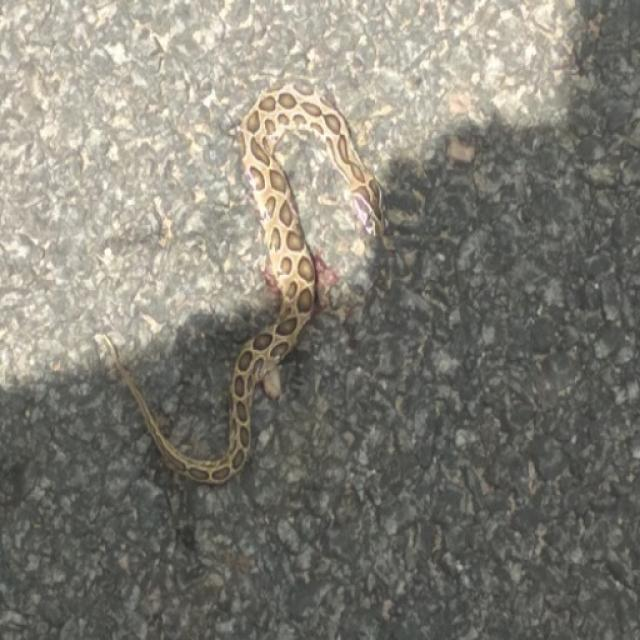snake: (119, 89, 389, 500)
